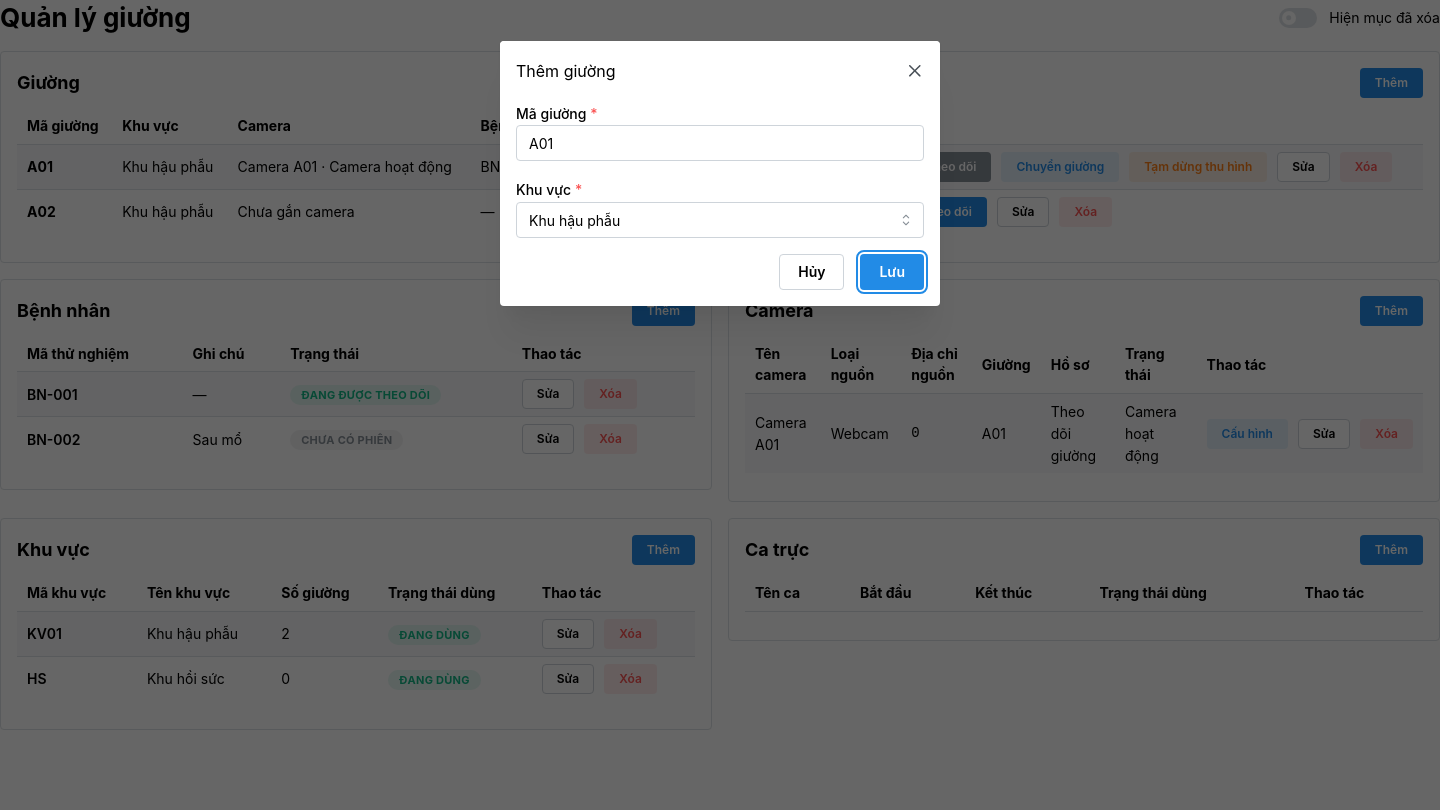
Scenario: ManagementPage › BedForm selects area from list and shows duplicate message
Earlier steps of the test are not shown.
Click the button "Lưu" at (892, 272), box [860,254,924,290]
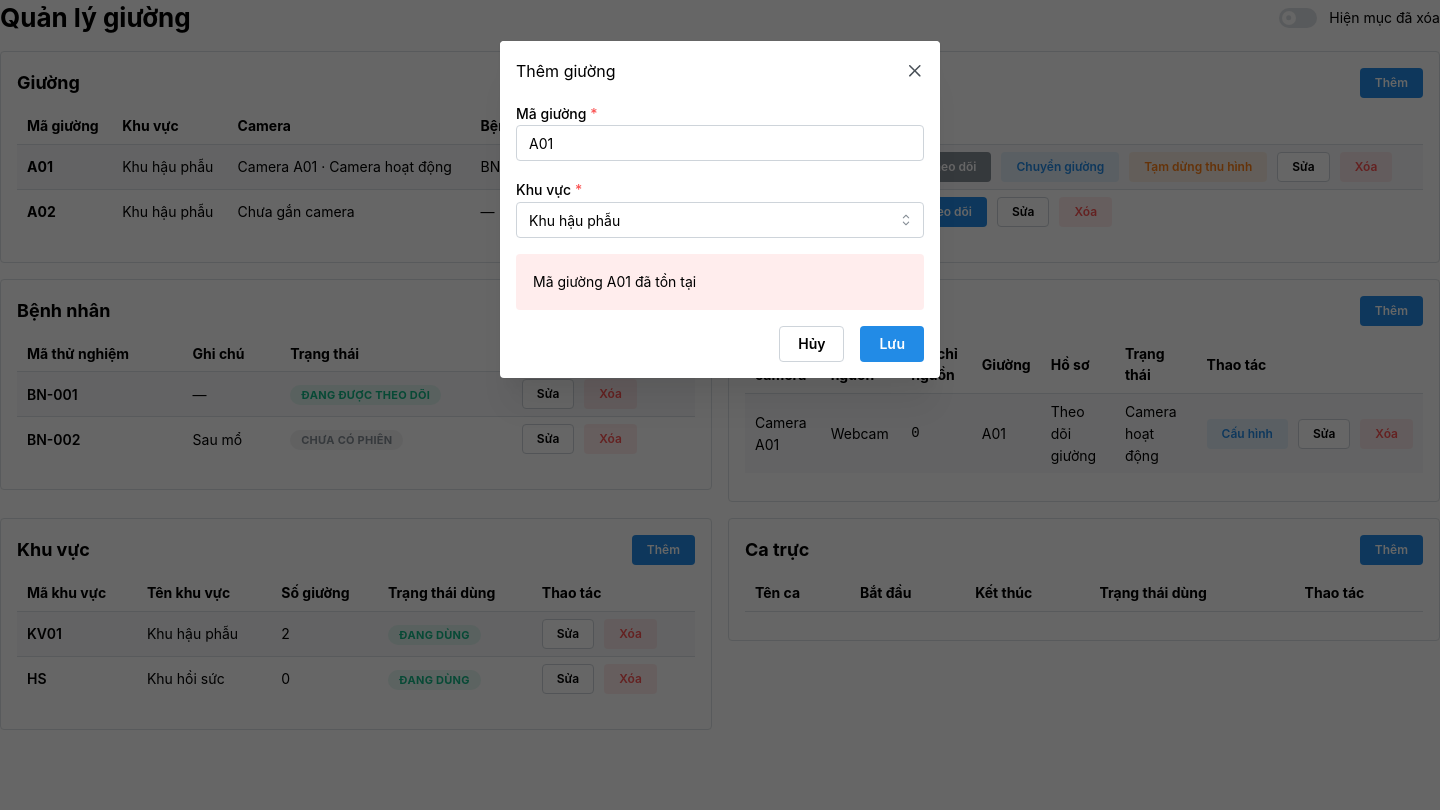
Expected: the text "Mã giường A01 đã tồn tại" is shown, [533,273,696,290]
